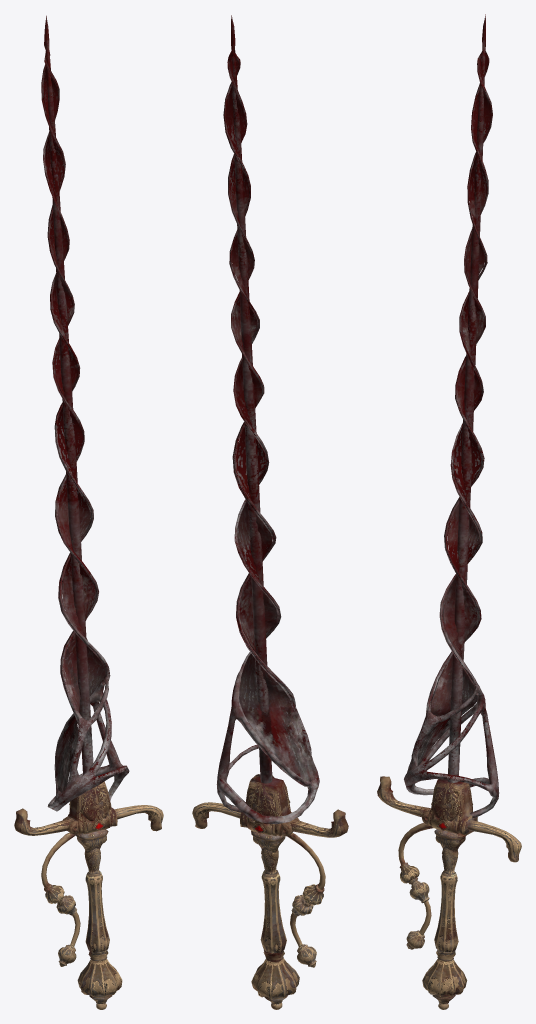
Rendered from so_pd_bloodyhelice.glb.
The picture shows the model from 3 angles, left to right: view 1: azimuth 30°, elevation 25°; view 2: azimuth 150°, elevation 25°; view 3: azimuth 330°, elevation 25°; orthographic projection. The views are drawn at different scales.
Visible parts, largest first — view 1: BloodyHelice; view 2: BloodyHelice; view 3: BloodyHelice.
Boxes of the visible parts, bbox=[...] form: BloodyHelice: bbox=[14, 15, 163, 1009]; BloodyHelice: bbox=[192, 15, 348, 1009]; BloodyHelice: bbox=[377, 14, 521, 1009].
Size of the model in its own units: 13.22 by 83.46 by 9.49.
1 material, 1 textured.
